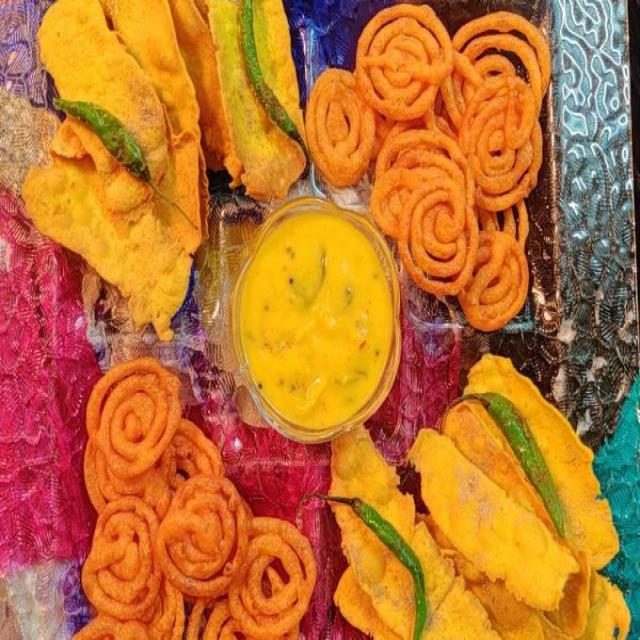jalebi: (300, 6, 544, 333)
